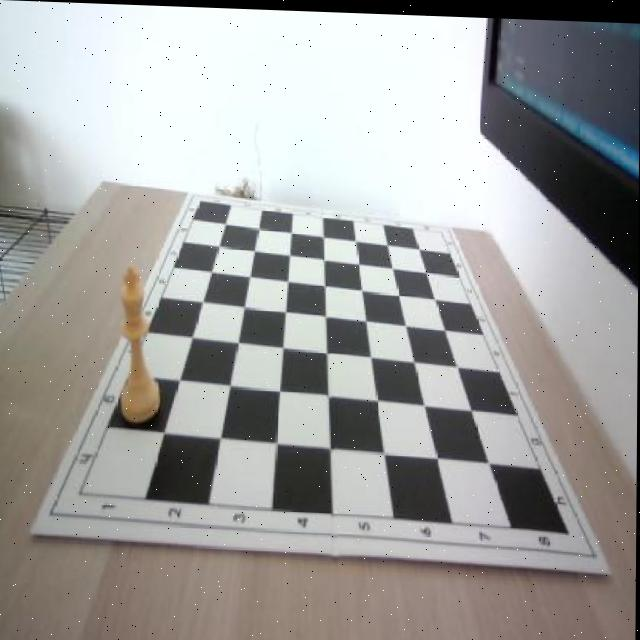white-bishop: (120, 265, 164, 422)
